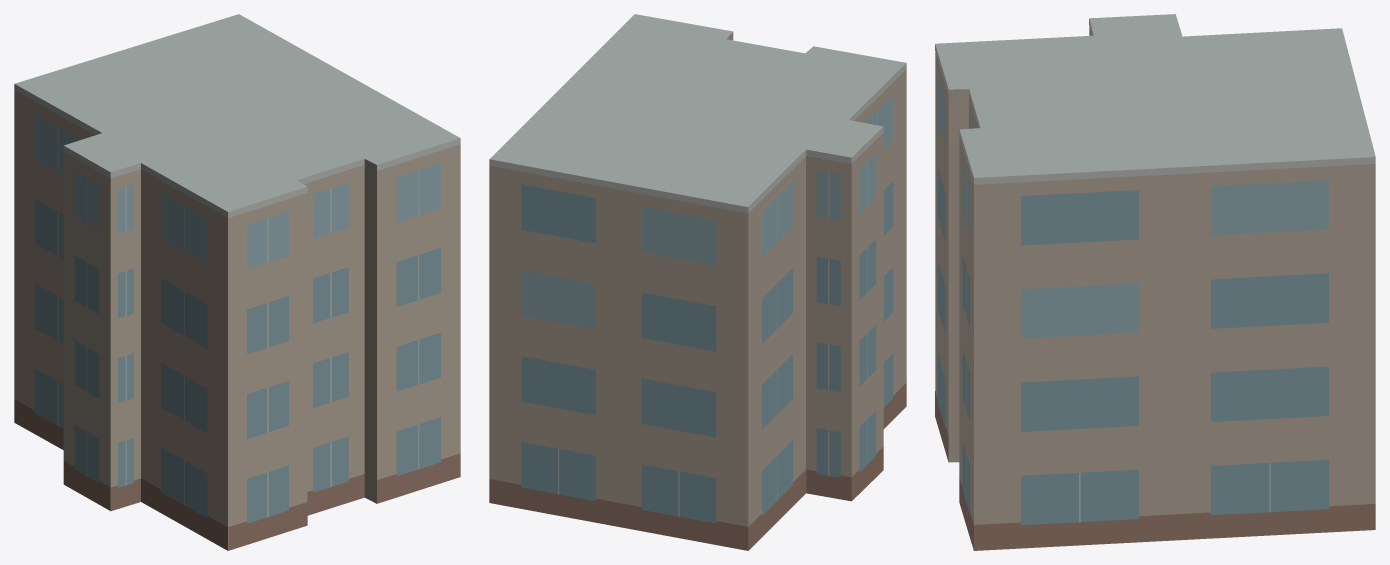
File: survey-upis-33023707.glb
3 renders of one model, left to right at view 1: azimuth 30°, elevation 25°; view 2: azimuth 150°, elevation 25°; view 3: azimuth 270°, elevation 25°, orthographic. The views are drawn at different scales.
Visible parts, largest first — view 1: survey-upis-33023707.tmp; view 2: survey-upis-33023707.tmp; view 3: survey-upis-33023707.tmp.
Part boxes in pixels (x1,y1,x2,y2): survey-upis-33023707.tmp: (14, 14, 460, 550); survey-upis-33023707.tmp: (489, 14, 906, 550); survey-upis-33023707.tmp: (935, 14, 1375, 550).
Size of the model in its own units: 12.6 by 13.35 by 14.31.
